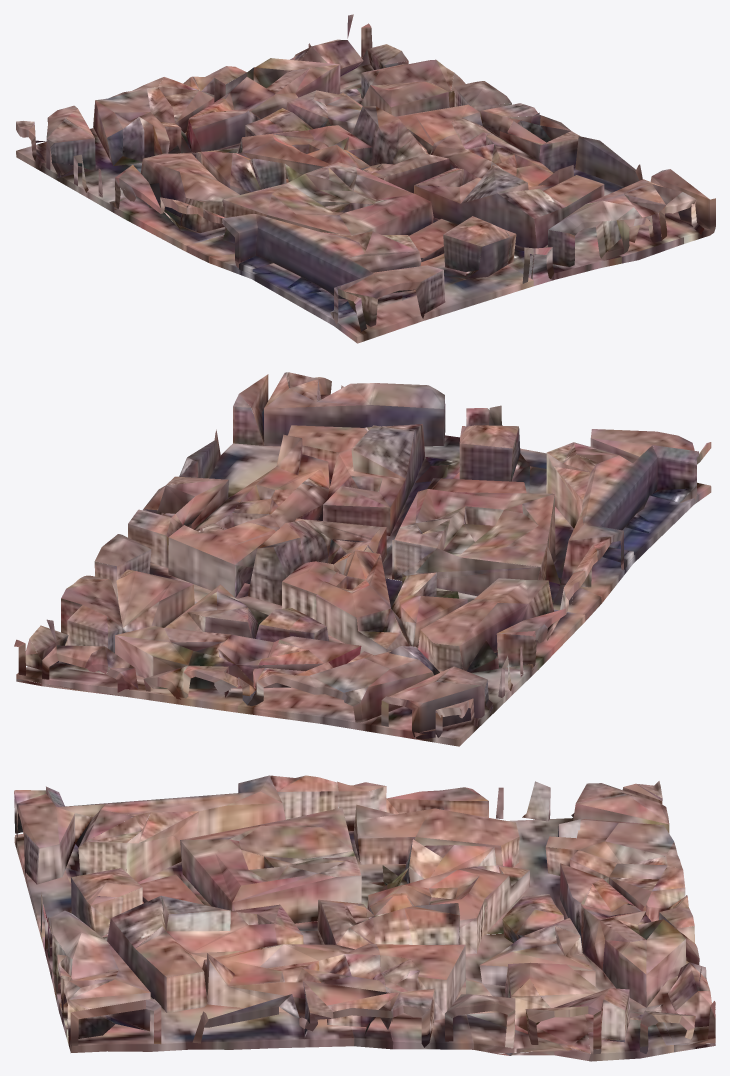
The picture shows the model from 3 angles, top to bottom: view 1: azimuth 30°, elevation 25°; view 2: azimuth 150°, elevation 25°; view 3: azimuth 270°, elevation 25°; orthographic projection. The views are drawn at different scales.
Parts seen in each view (by area): view 1: Mesh_0; view 2: Mesh_0; view 3: Mesh_0.
Boxes of the visible parts, box(x1,y1,x2,y2) form: Mesh_0: box(16, 14, 715, 343); Mesh_0: box(14, 372, 711, 746); Mesh_0: box(14, 775, 715, 1061).
Size of the model in its own units: 271 by 51.87 by 330.
Materials: 2 (2 with a texture image).
